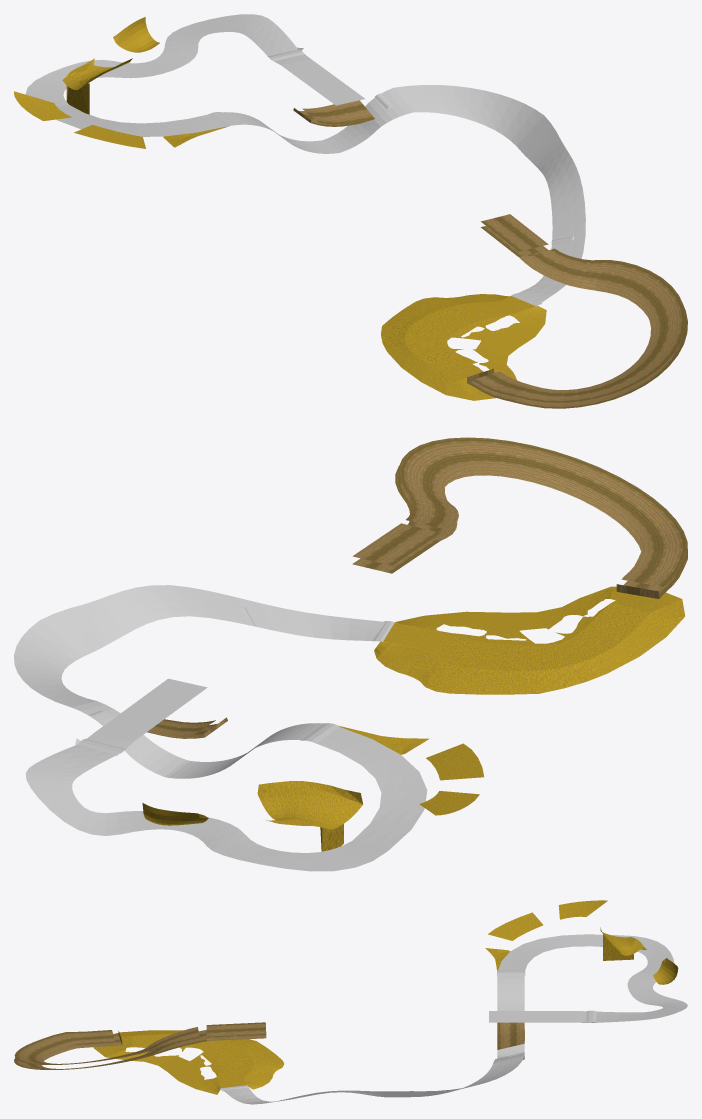
Rendered from coolcastle.obj.
The picture shows the model from 3 angles, top to bottom: view 1: azimuth 30°, elevation 25°; view 2: azimuth 150°, elevation 25°; view 3: azimuth 270°, elevation 25°; orthographic projection. The views are drawn at different scales.
Visible parts, largest first — view 1: rSand_canyon0_1_34_SKP__sand.001, rDirt_canyon0_1_34_SKP__roadSandStone.001, RoadStart.001_canyon0_1_34_SKP__woodDeco.000, rCanyon_canyon0_1_34_SKP__dirt.001; view 2: rSand_canyon0_1_34_SKP__sand.001, rDirt_canyon0_1_34_SKP__roadSandStone.001, RoadStart.001_canyon0_1_34_SKP__woodDeco.000, rCanyon_canyon0_1_34_SKP__dirt.001; view 3: rSand_canyon0_1_34_SKP__sand.001, RoadStart.001_canyon0_1_34_SKP__woodDeco.000, rDirt_canyon0_1_34_SKP__roadSandStone.001, rCanyon_canyon0_1_34_SKP__dirt.001.
Boxes of the visible parts, bbox=[...] form: rSand_canyon0_1_34_SKP__sand.001: bbox=[14, 17, 546, 400]; rDirt_canyon0_1_34_SKP__roadSandStone.001: bbox=[208, 49, 585, 306]; RoadStart.001_canyon0_1_34_SKP__woodDeco.000: bbox=[293, 100, 687, 408]; rCanyon_canyon0_1_34_SKP__dirt.001: bbox=[25, 14, 303, 136]; rSand_canyon0_1_34_SKP__sand.001: bbox=[142, 586, 685, 851]; rDirt_canyon0_1_34_SKP__roadSandStone.001: bbox=[14, 585, 396, 778]; RoadStart.001_canyon0_1_34_SKP__woodDeco.000: bbox=[147, 437, 687, 738]; rCanyon_canyon0_1_34_SKP__dirt.001: bbox=[25, 726, 427, 871]; rSand_canyon0_1_34_SKP__sand.001: bbox=[94, 900, 678, 1094]; RoadStart.001_canyon0_1_34_SKP__woodDeco.000: bbox=[14, 1022, 524, 1069]; rDirt_canyon0_1_34_SKP__roadSandStone.001: bbox=[220, 970, 596, 1104]; rCanyon_canyon0_1_34_SKP__dirt.001: bbox=[498, 934, 687, 1022].
Bounding box in the file's own units: 324 × 79.63 × 571.
